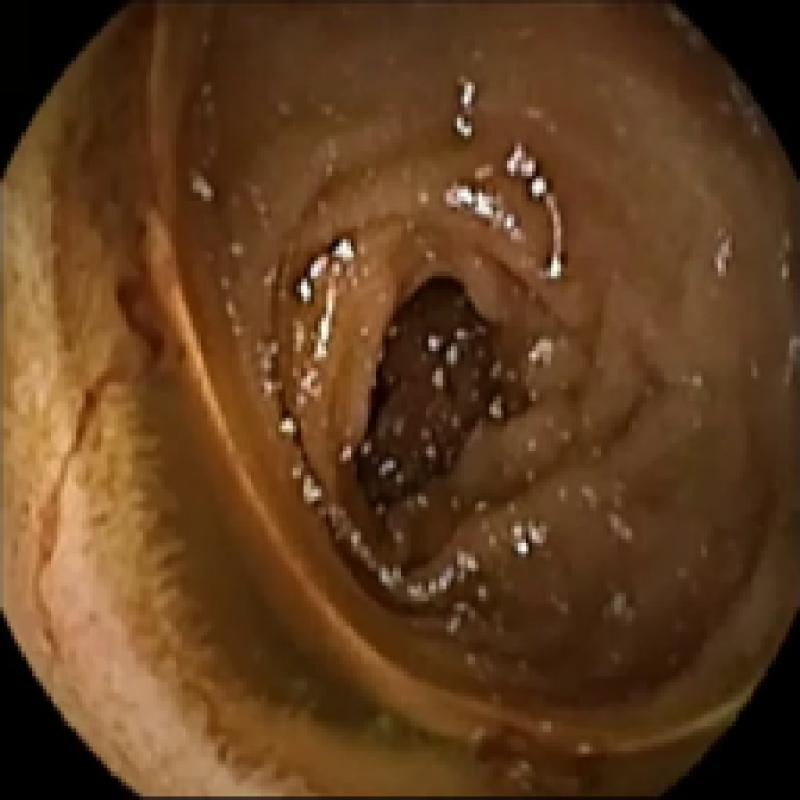bleeding: (36, 278, 175, 596), (458, 707, 606, 794)
